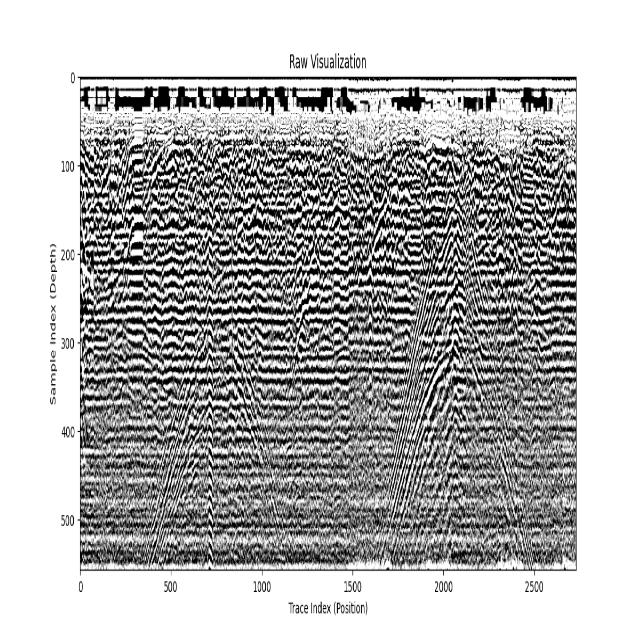anomaly: (361, 194, 548, 570), (133, 272, 300, 567)
